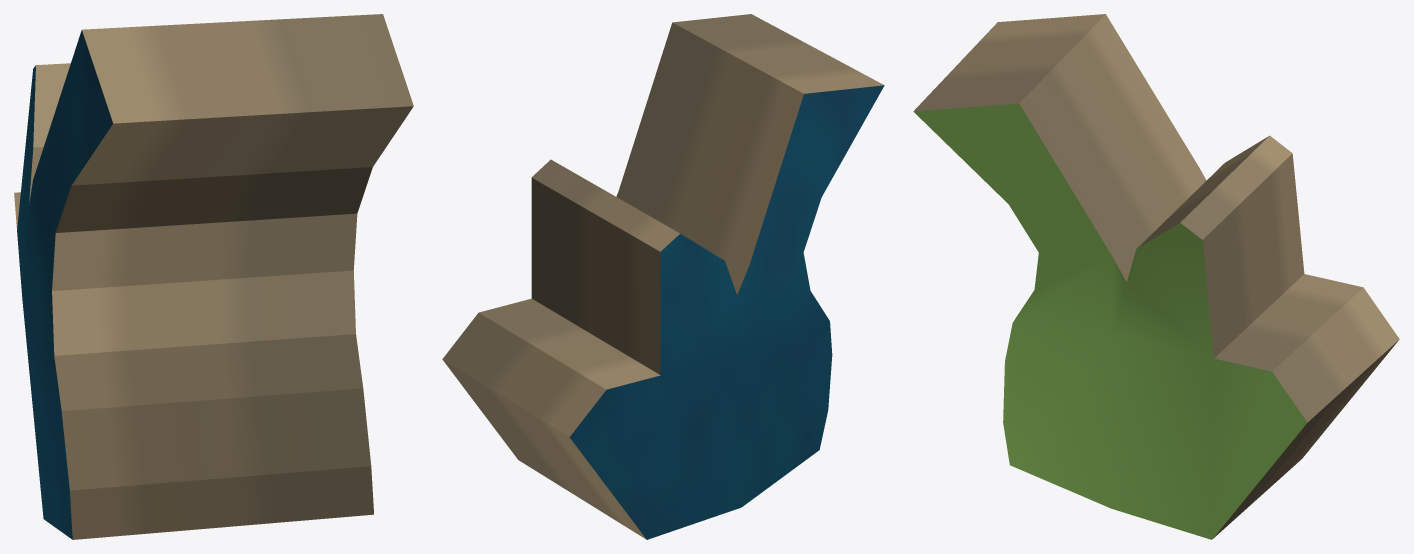
Rendered from 0623_Bangladesh.glb.
The picture shows the model from 3 angles, left to right: view 1: azimuth 30°, elevation 25°; view 2: azimuth 150°, elevation 25°; view 3: azimuth 270°, elevation 25°; orthographic projection. The views are drawn at different scales.
Parts seen in each view (by area): view 1: part_0; view 2: part_0; view 3: part_0.
Boxes of the visible parts, bbox=[...] form: part_0: bbox=[14, 14, 413, 539]; part_0: bbox=[442, 14, 884, 539]; part_0: bbox=[913, 14, 1399, 539].
Size of the model in its own units: 0.3145 by 0.4008 by 0.4285.
Materials: 1 (1 with a texture image).
